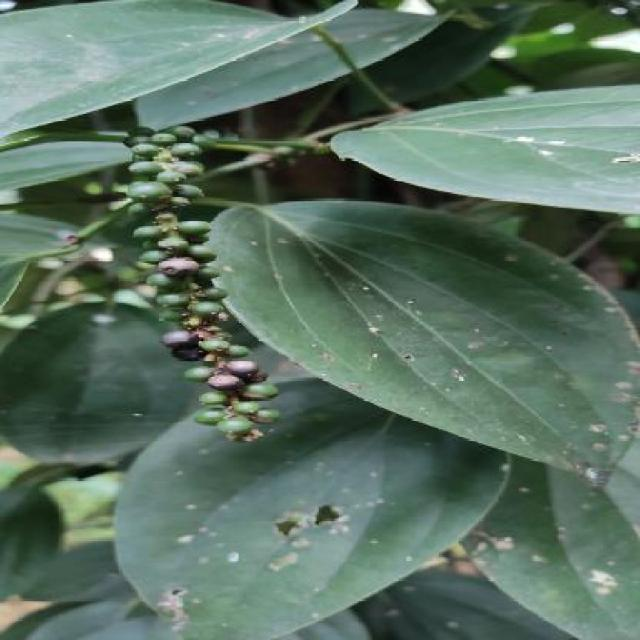UNRIPE: (129, 129, 228, 323)
